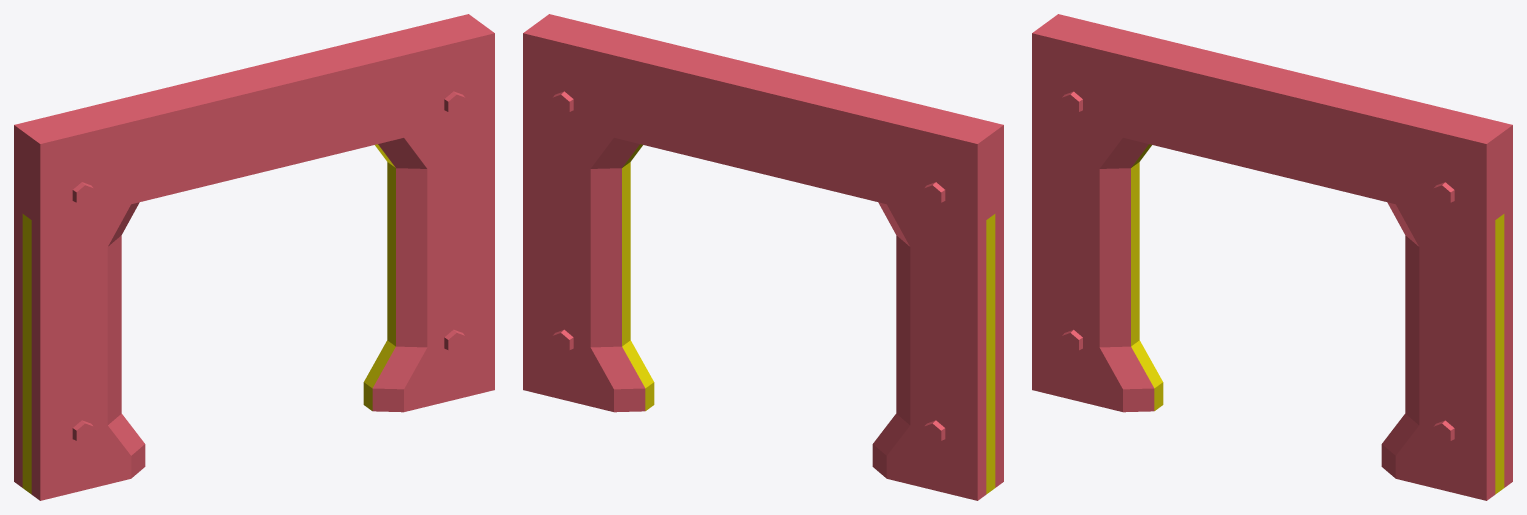
The model's file is decoration-door-frame.fbx.
The picture shows the model from 3 angles, left to right: view 1: azimuth 30°, elevation 25°; view 2: azimuth 150°, elevation 25°; view 3: azimuth 330°, elevation 25°; orthographic projection.
Visible parts, largest first — view 1: decoration-door-frame; view 2: decoration-door-frame; view 3: decoration-door-frame.
Boxes of the visible parts, x1,y1,x2,y2 form: decoration-door-frame: [14, 14, 494, 500]; decoration-door-frame: [523, 14, 1003, 500]; decoration-door-frame: [1032, 14, 1512, 500].
Size of the model in its own units: 4 by 3 by 0.4999.
